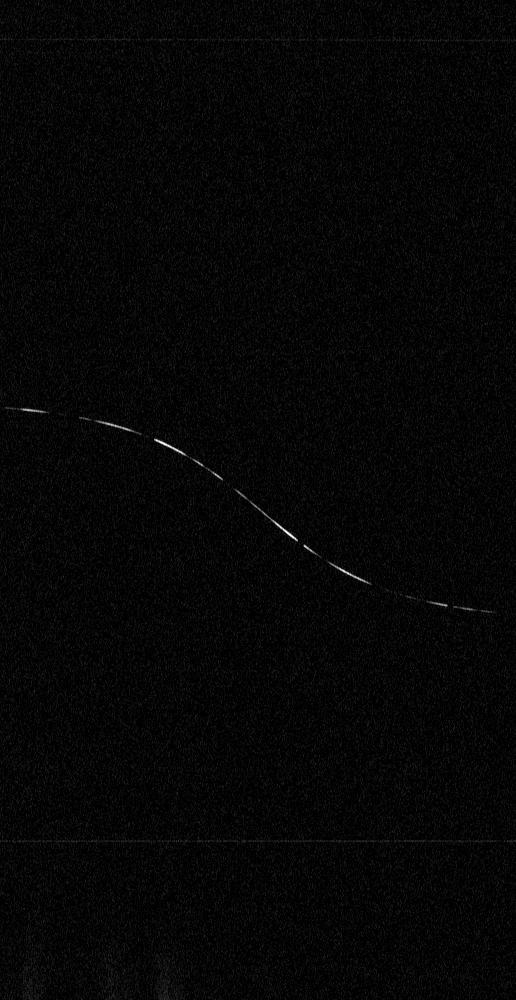signal: (0, 0, 515, 999)
